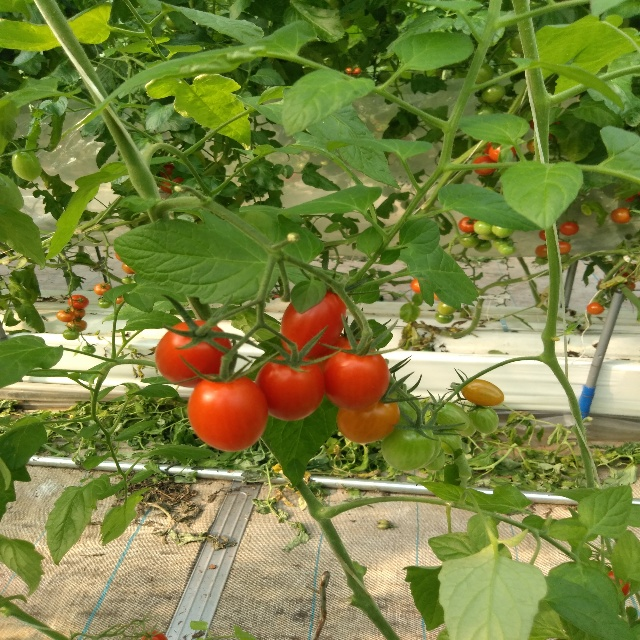l_fully_ripened: (188, 375, 268, 452), (155, 320, 232, 388), (255, 354, 324, 422), (280, 290, 346, 358), (324, 345, 390, 411)
l_green: (381, 424, 434, 472), (387, 391, 421, 426), (430, 401, 468, 430), (12, 150, 42, 182), (0, 172, 25, 210), (467, 405, 498, 434), (435, 425, 463, 455), (425, 448, 446, 471), (455, 419, 476, 437)
l_half_ripened: (337, 396, 399, 443), (461, 379, 505, 407)
